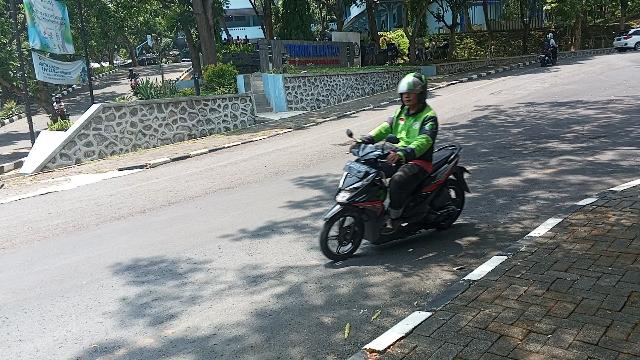helm: (400, 74, 429, 107)
motor: (321, 145, 473, 262)
